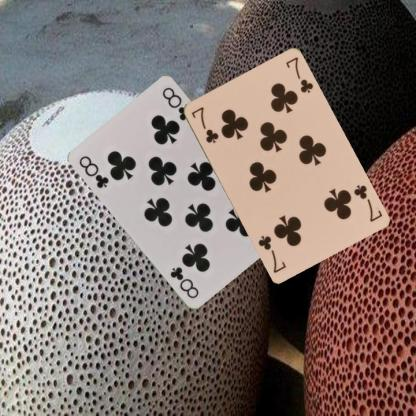7c: (351, 182, 383, 223), (188, 104, 220, 144)
8c: (77, 153, 111, 190)
